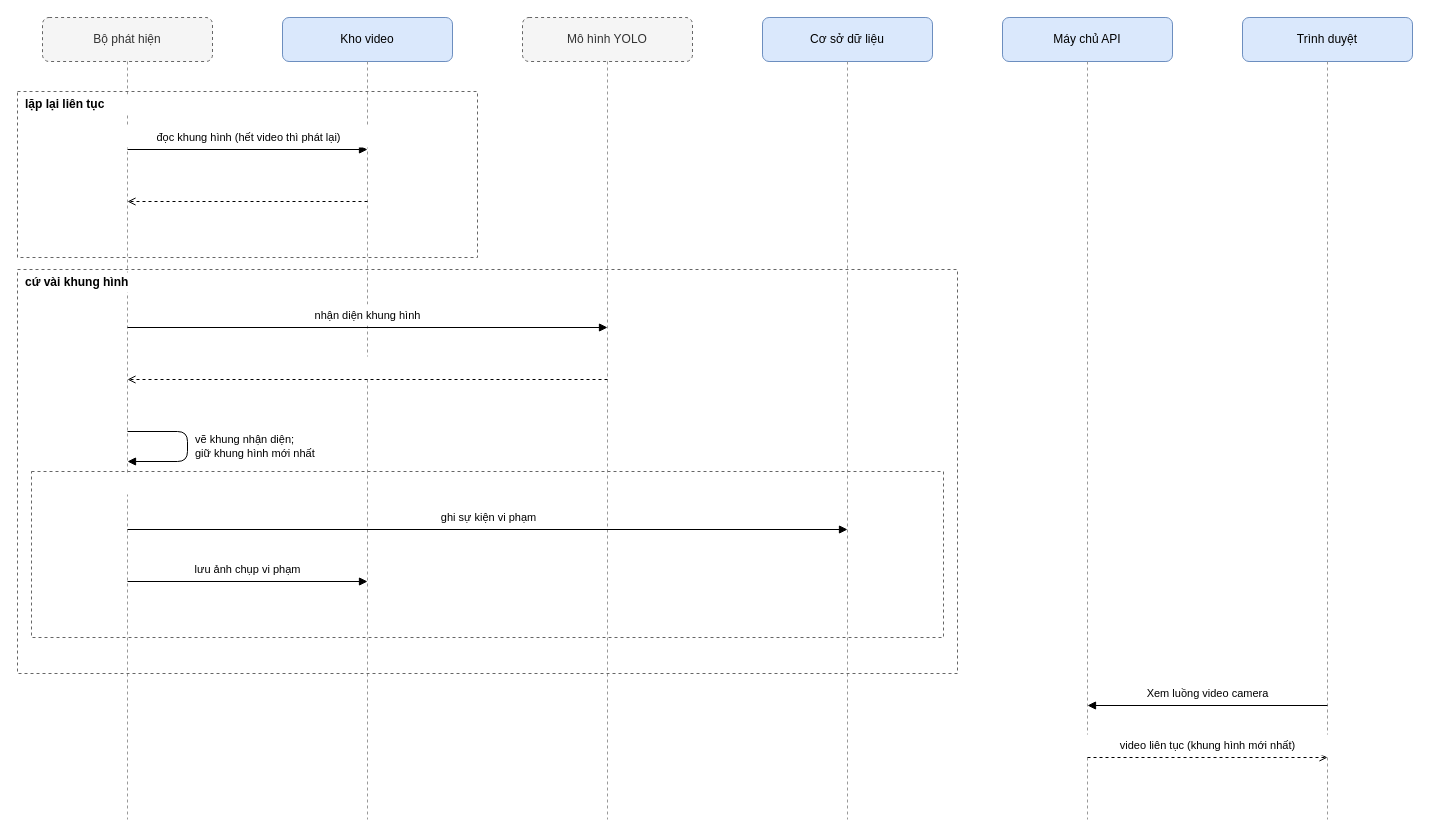
This 1430x838 diagram has some shape labels left out. The centre of each missing label's shape, as x and y in pixels:
các đối tượng: người, mũ, thiếu mũ…: the point at 367,366
khung hình: the point at 247,188
nếu có vi phạm và đã qua thời gian chờ: the point at 184,484
